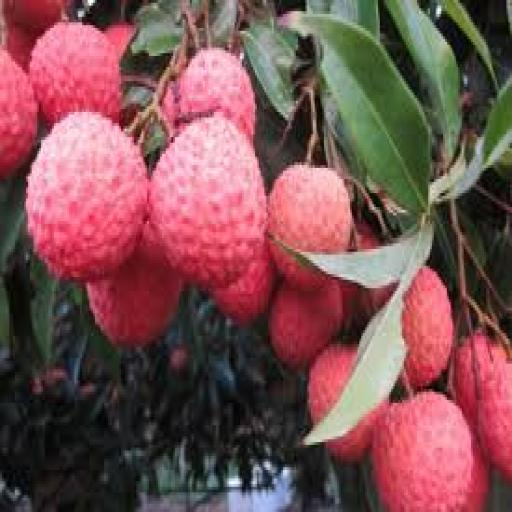lychee: (27, 112, 148, 279), (151, 115, 266, 288), (373, 392, 474, 511), (88, 224, 182, 346), (30, 23, 121, 123), (269, 166, 351, 251), (179, 48, 255, 139), (269, 280, 342, 369), (403, 266, 454, 388), (213, 244, 275, 324), (455, 333, 506, 430), (0, 48, 37, 179), (308, 345, 357, 425), (481, 364, 511, 481), (339, 280, 394, 330), (4, 0, 68, 33), (462, 437, 489, 511), (6, 23, 37, 69), (105, 23, 135, 61), (162, 82, 178, 137), (168, 342, 189, 374)
